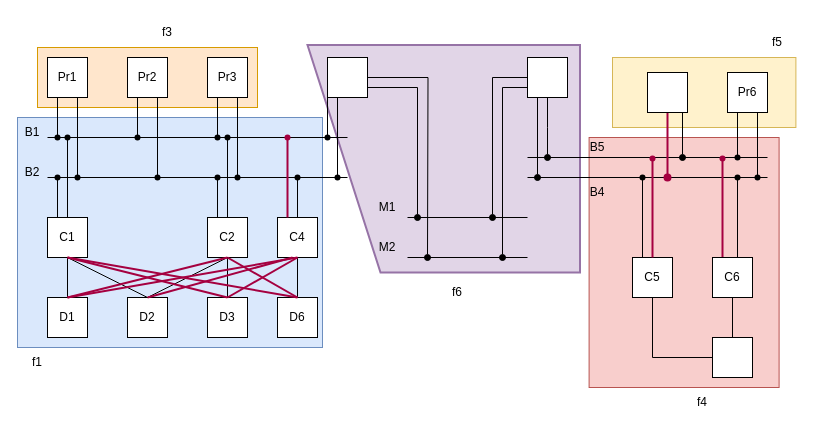
The diagram is 814 pixels wide and 434 high, and some of its shapes have lost their labels. The centre of each missing label's shape, as x and y in pixels:
"A1" goes at [347,77].
"A2" goes at [547,77].
"D8" goes at [732,357].
"Pr5" goes at [667,92].
